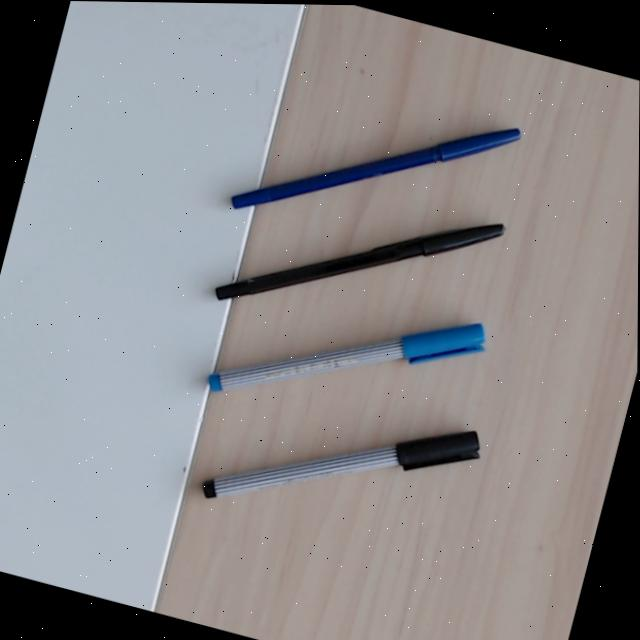Pulpen-Biru: (229, 122, 526, 212)
Pulpen-Garis-Biru: (207, 319, 491, 399)
Pulpen-Garis-Hitam: (200, 426, 485, 509)
Pulpen-Hitam: (212, 216, 509, 304)
